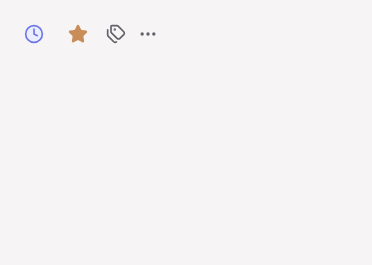
Scenario: O126 — EntryActionButtons card 变体（移动卡片收纳） › 已在稍后读 → Clock 激活态 + 菜单出现「延后 7 天」；收藏激活态 aria 不变
Expected: the button named "取消收藏" is shown, [56,12,100,56]
Step 1. Click the button named "更多操作" → (148, 34), box [132,18,164,50]
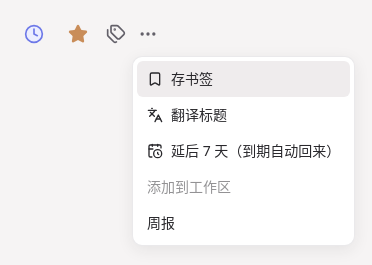
Expected: the menu item "延后 7 天（到期自动回来）" is shown, [147,141,340,160]
